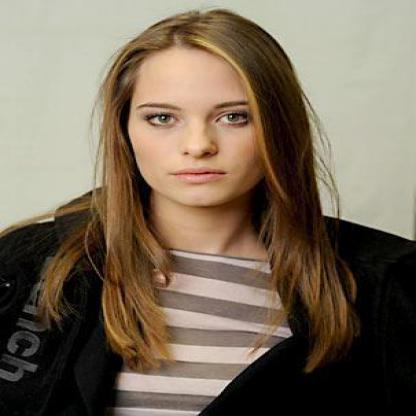long-hair: (52, 208, 353, 261)
